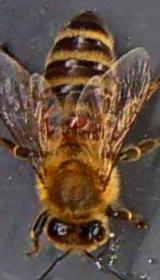varroa_mite: (58, 110, 93, 138)
